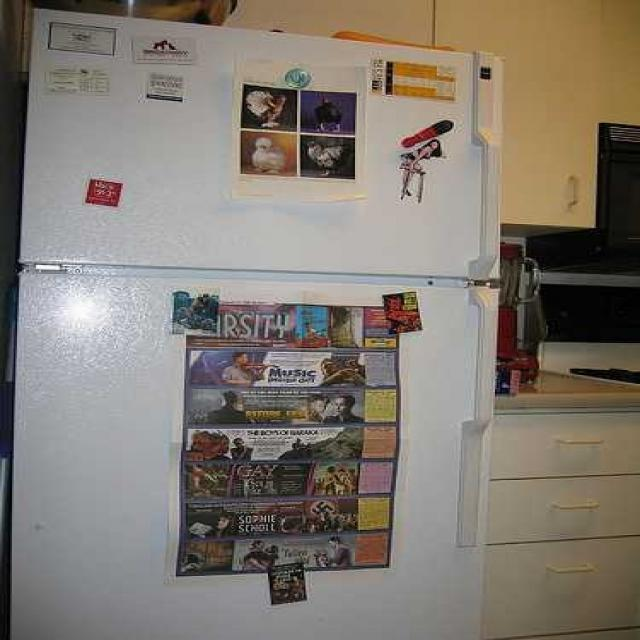refrigerator: (13, 4, 508, 640)
